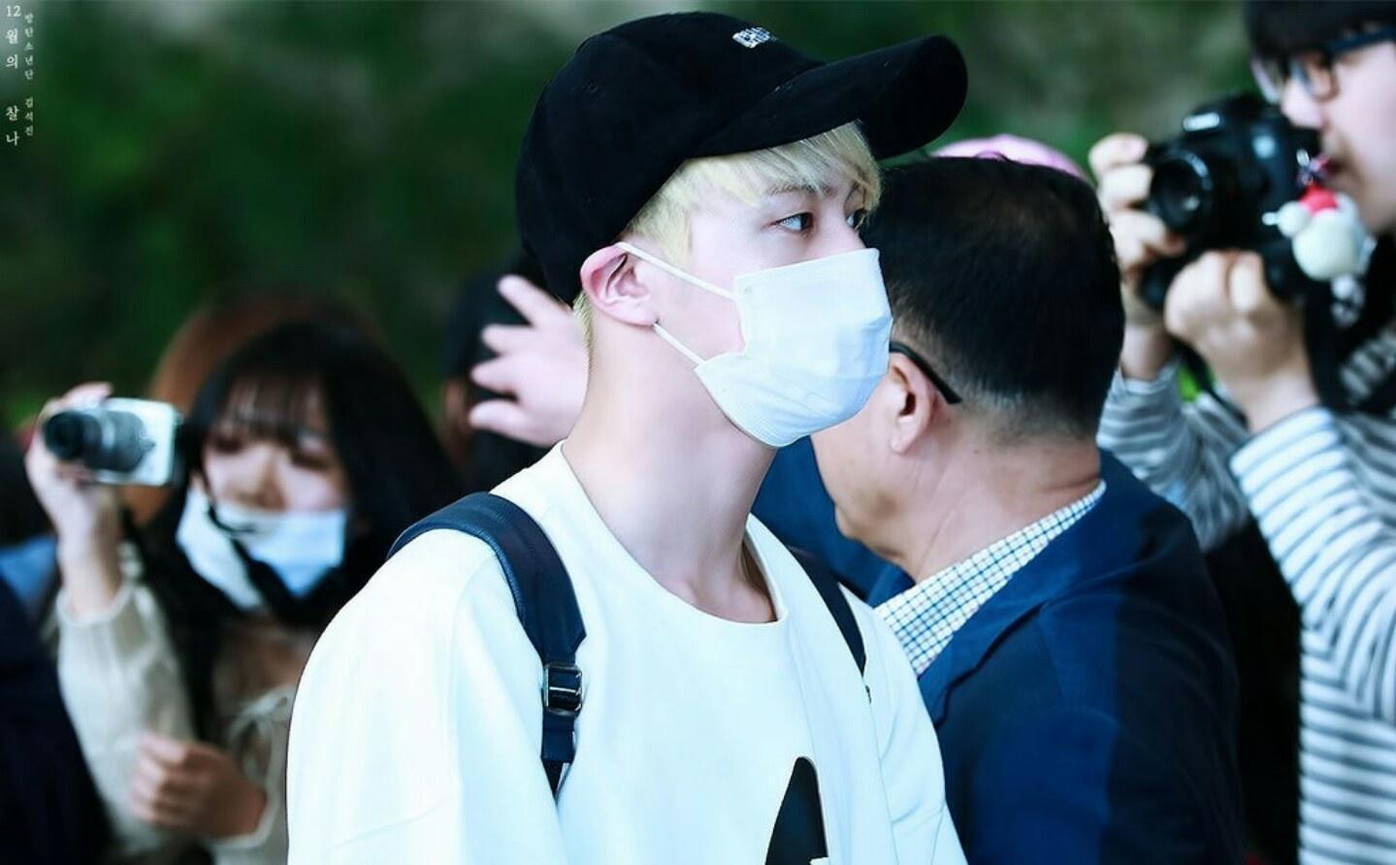NONE: (1269, 42, 1396, 228)
OK: (614, 158, 891, 434)
WRONG: (184, 426, 347, 600)
